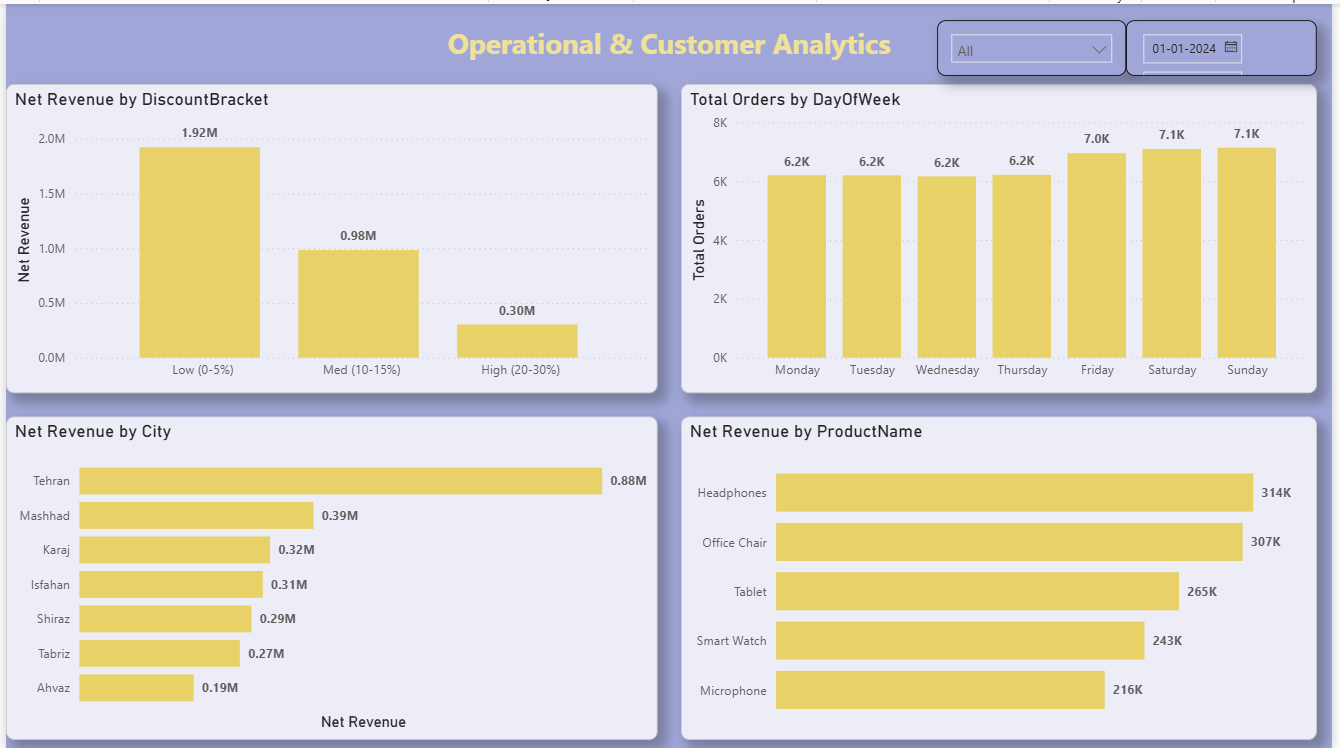

What the dashboard file says about the page in this screenshot:
{"tool":"powerbi","page":{"name":"Page 2","canvas":[1280,720],"ordinal":1},"visuals":[{"type":"clusteredColumnChart","fields":{"Category":["public orders.DiscountBracket"],"Y":["_Measures.Net Revenue"]},"box":[0,77,628.5,298.4],"z":0},{"type":"textbox","box":[14.5,14.5,1251.1,53.1],"z":1000},{"type":"clusteredColumnChart","fields":{"Y":["_Measures.Total Orders"],"Category":["public orders.DayOfWeek"]},"box":[651.8,77,613.9,298.4],"z":2000},{"type":"clusteredBarChart","fields":{"Category":["public customers.City"],"Y":["_Measures.Net Revenue"]},"box":[0,398.6,628.5,311.8],"z":3000},{"type":"clusteredBarChart","fields":{"Category":["public products.ProductName"],"Y":["_Measures.Net Revenue"]},"box":[651.8,398.6,613.9,311.8],"z":4000},{"type":"slicer","fields":{"Values":["public customers.City"]},"box":[898.8,15.1,182.5,53.5],"z":5000},{"type":"slicer","fields":{"Values":["public orders.OrderDate"]},"box":[1081.3,15.1,183.9,53.5],"z":6000}]}

Visuals, with their boxes in screenshot pixels (x1, y1, x2, y2), scaled from the page's 1280x720 canvas onto the 1340x748 screenshot:
clusteredColumnChart - public orders.DiscountBracket x _Measures.Net Revenue: [left=0, top=80, right=658, bottom=390]
textbox: [left=15, top=15, right=1325, bottom=70]
clusteredColumnChart - _Measures.Total Orders x public orders.DayOfWeek: [left=682, top=80, right=1325, bottom=390]
clusteredBarChart - public customers.City x _Measures.Net Revenue: [left=0, top=414, right=658, bottom=738]
clusteredBarChart - public products.ProductName x _Measures.Net Revenue: [left=682, top=414, right=1325, bottom=738]
slicer - public customers.City: [left=941, top=16, right=1132, bottom=71]
slicer - public orders.OrderDate: [left=1132, top=16, right=1325, bottom=71]
